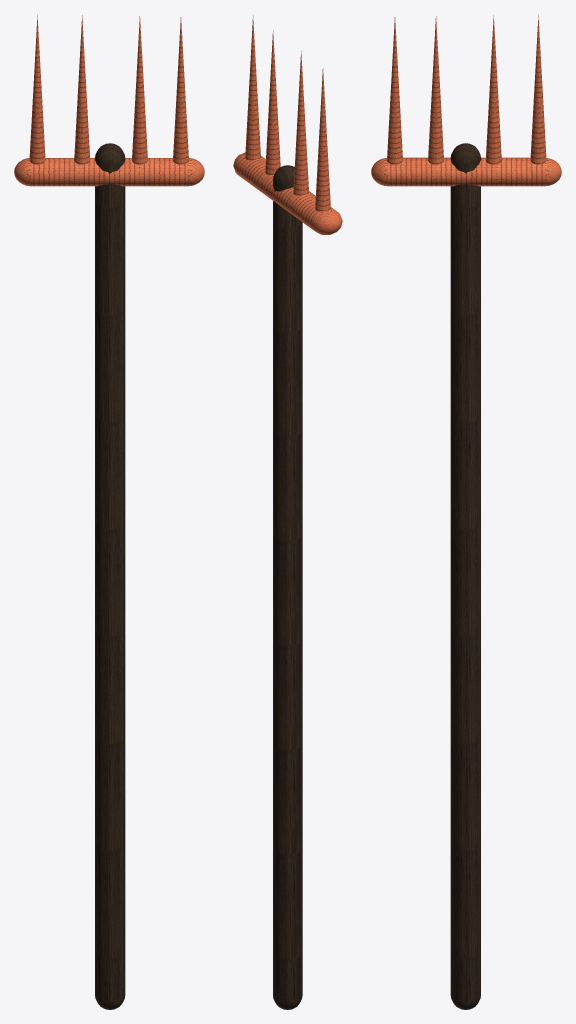
File: Mistgabel.FBX
The picture shows the model from 3 angles, left to right: view 1: azimuth 90°, elevation 25°; view 2: azimuth 210°, elevation 25°; view 3: azimuth 270°, elevation 25°; orthographic projection. The views are drawn at different scales.
Visible parts, largest first — view 1: Capsule001; view 2: Capsule001; view 3: Capsule001.
Boxes of the visible parts, x1=… form: Capsule001: x1=14, y1=14, x2=204, y2=1009; Capsule001: x1=233, y1=15, x2=342, y2=1009; Capsule001: x1=371, y1=14, x2=561, y2=1009.
Bounding box in the file's own units: 1.75 × 56.65 × 9.84.
